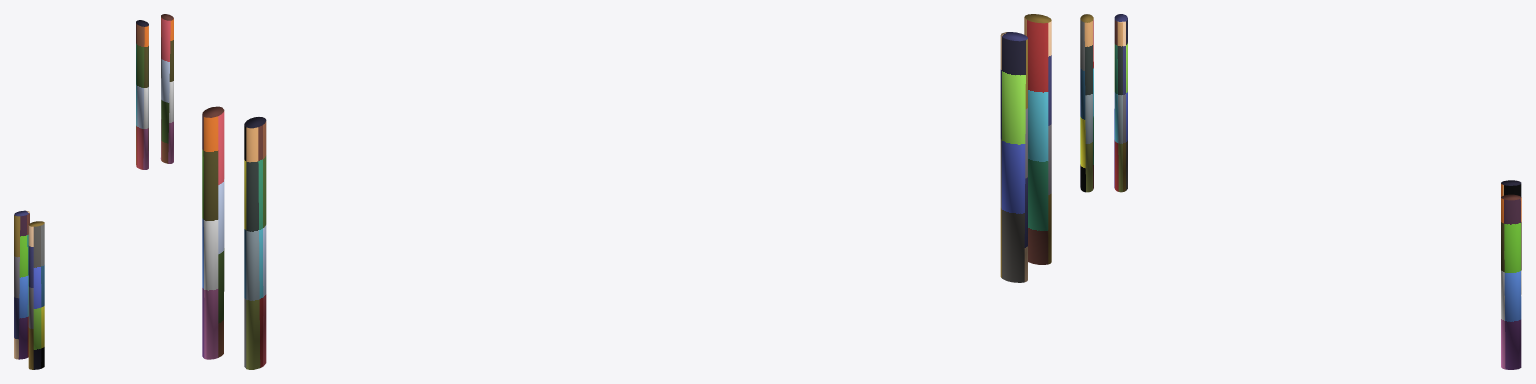
File: Floor_2_Lights.glb
3 renders of one model, left to right at view 1: azimuth 30°, elevation 25°; view 2: azimuth 150°, elevation 25°; view 3: azimuth 270°, elevation 25°, orthographic. The views are drawn at different scales.
Parts seen in each view (by area): view 1: Lights_Emmision.002; view 2: Lights_Emmision.002; view 3: Lights_Emmision.002.
Part boxes in pixels (x1,y1,x2,y2): Lights_Emmision.002: (14, 14, 173, 369); Lights_Emmision.002: (202, 14, 1051, 369); Lights_Emmision.002: (1080, 14, 1521, 369).
Bounding box in the file's own units: 1.72 × 0.7295 × 1.72.
Materials: 1 (1 with a texture image).
